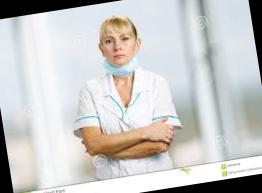mask_weared_incorrect: (100, 32, 140, 74)
